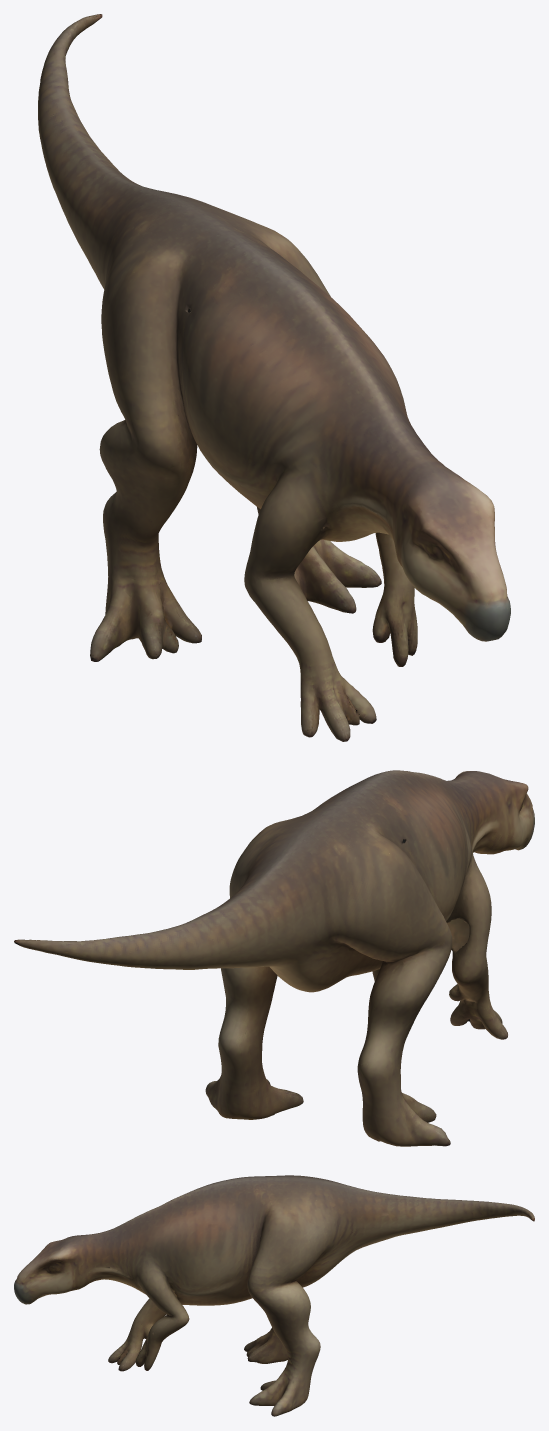
3 renders of one model, top to bottom at view 1: azimuth 30°, elevation 25°; view 2: azimuth 150°, elevation 25°; view 3: azimuth 270°, elevation 25°, orthographic. The views are drawn at different scales.
Visible parts, largest first — view 1: world; view 2: world; view 3: world.
Boxes of the visible parts, bbox=[...] form: world: bbox=[38, 14, 510, 741]; world: bbox=[14, 770, 534, 1146]; world: bbox=[14, 1175, 534, 1416].
Bounding box in the file's own units: 1.65 × 2.13 × 5.
Materials: 1 (1 with a texture image).
